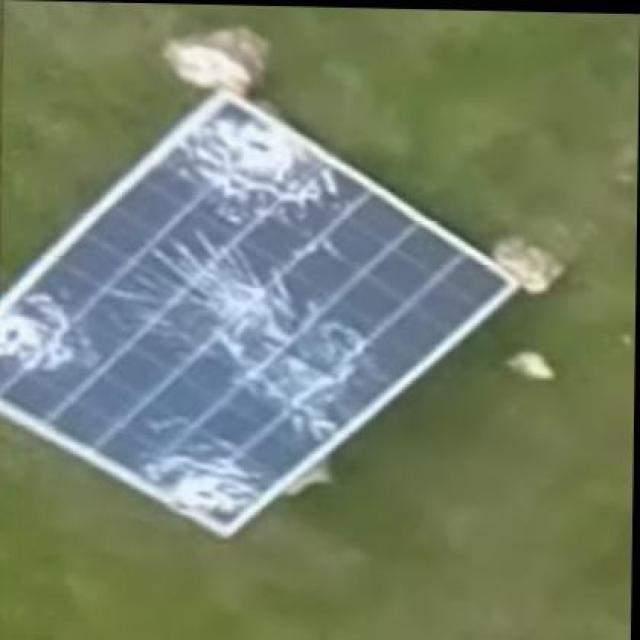cracked: (4, 90, 514, 552)
